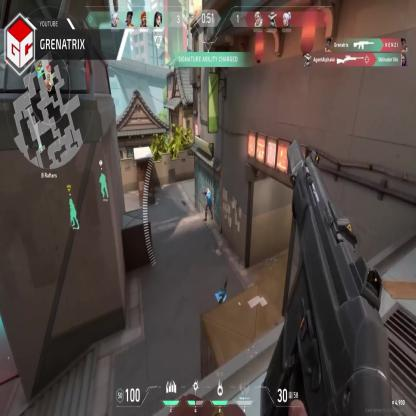enemy: (204, 186, 213, 223)
enemy_head: (207, 188, 209, 193)
